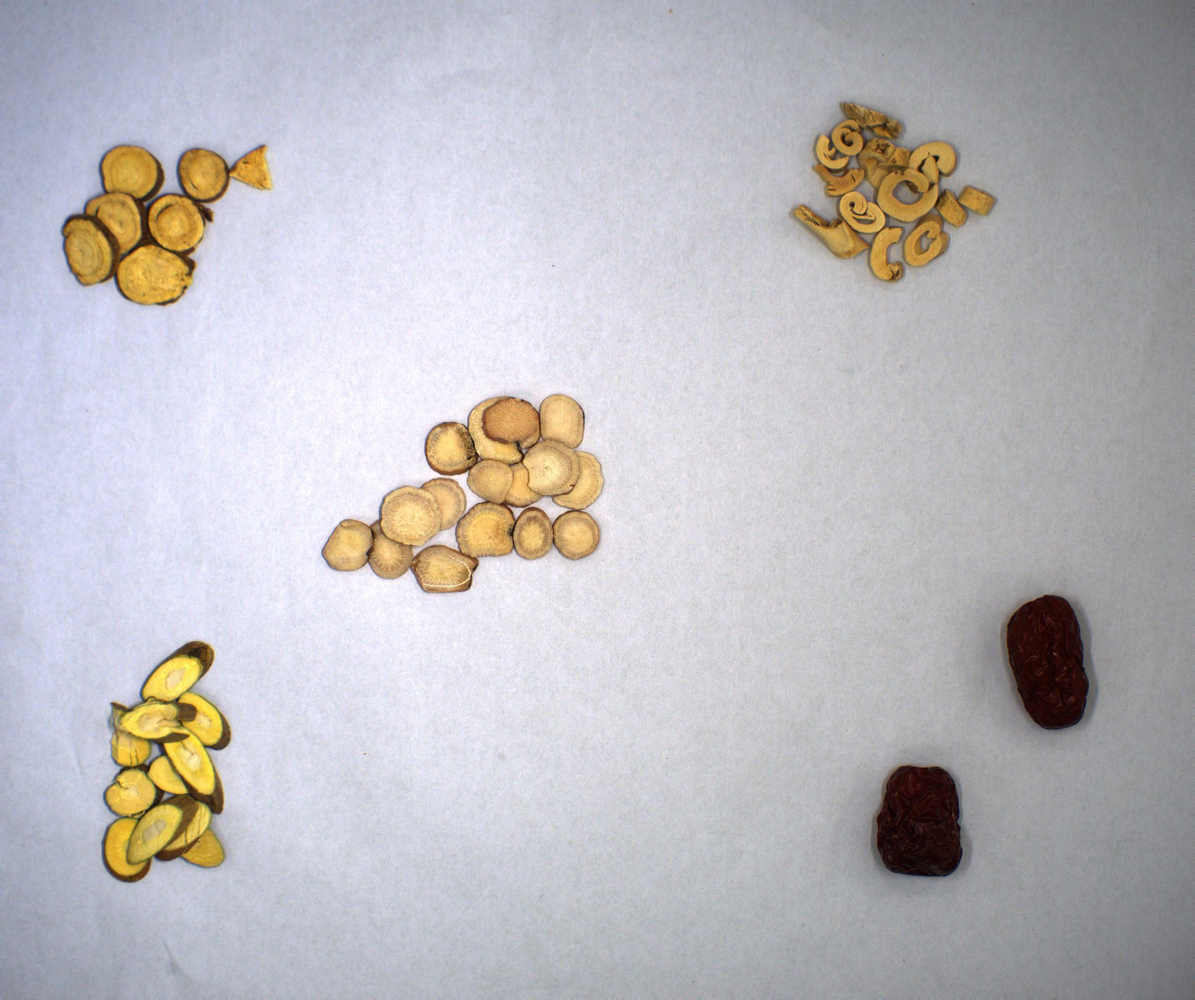baishao: (303, 364, 653, 642)
baixianpi: (783, 69, 1030, 311)
dazao: (839, 515, 1139, 905)
gancaopian: (50, 83, 302, 340)
sangzhi: (61, 611, 262, 925)
